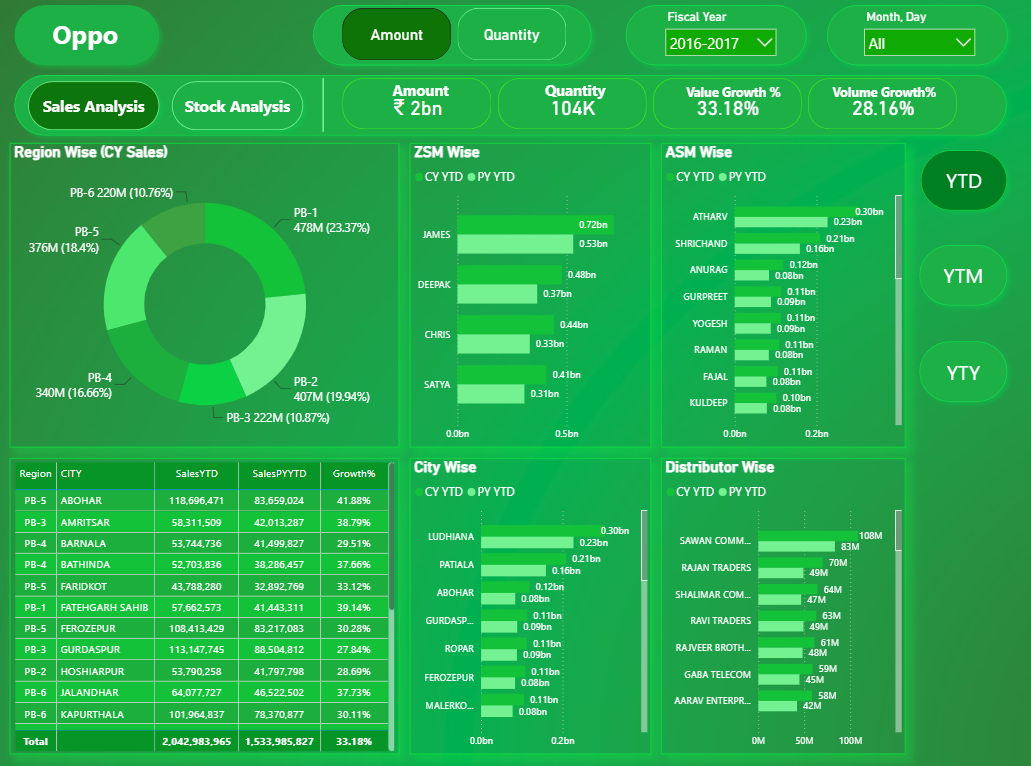

What the dashboard file says about the page in this screenshot:
{"tool":"powerbi","page":{"name":"Sale","canvas":[1280,980],"ordinal":0},"visuals":[{"type":"shape","title":"Amount/Qty_BG","box":[381.4,0,371.6,94.5],"z":0},{"type":"shape","box":[777.8,0,247.7,94.5],"z":0,"group":"g1"},{"type":"shape","box":[1032.5,0.2,247.7,94.5],"z":0,"group":"g2"},{"type":"shape","title":"Qppo","box":[1.6,0,202.1,94.5],"z":1000},{"type":"slicer","fields":{"Values":["DateTable.Fiscal Year"]},"box":[826.3,9.8,161.4,65.2],"z":1000,"group":"g1"},{"type":"slicer","fields":{"Values":["DateTable.Month-YY","DateTable.Day"]},"box":[1079,9.8,161.4,65.2],"z":1000,"group":"g2"},{"type":"shape","title":"YTY","box":[1150.2,427.6,129.8,94.8],"z":2000},{"type":"shape","title":"YTM","box":[1150.2,304.5,129.8,94.8],"z":3000},{"type":"shape","title":"YTD_S","box":[1151.9,184.7,128.1,94.8],"z":4000},{"type":"textbox","title":"Qoppo","box":[53.8,19.6,104.3,55.4],"z":5000},{"type":"shape","box":[1.7,88.2,1277.8,94.8],"z":6000},{"type":"shape","title":"Stock ANalysis","box":[201.3,96.5,184.7,79.9],"z":7000},{"type":"shape","title":"SalesAnalysis","box":[18.3,96.5,184.7,79.9],"z":8000},{"type":"group","id":"g1","title":"Group 1","box":[777.8,0,247.7,94.5],"z":9000},{"type":"group","id":"g2","title":"Group 2","box":[1032.5,0.2,247.7,94.5],"z":10000},{"type":"donutChart","title":"Region Wise (CY Sales)","fields":{"Y":["Measures-Sales.TotalSales"],"Category":["Distributor.Region"]},"box":[5,184.7,494.2,386],"z":11000},{"type":"tableEx","title":"City Wise Sales Amount","fields":{"Values":["Distributor.Region","Distributor.CITY","Measures-Sales.AmountYTD","Measures-Sales.AmountPYYTD","Measures-Sales.SalesGrowth%"]},"box":[5,584,494.2,376],"z":13000},{"type":"advancedSlicerVisual","title":"Slicer","fields":{"Values":["Qty/Amount.ID"]},"box":[422.1,8.2,295,76.6],"z":15000},{"type":"shape","box":[377.7,101.5,49.9,68.2],"z":16000},{"type":"clusteredBarChart","title":"City Wise","fields":{"Y":["Measures-Sales.AmountYTD","Measures-Sales.AmountPYYTD"],"Category":["Distributor.CITY"]},"box":[512.5,584,306.1,376],"z":20000},{"type":"clusteredBarChart","title":"ASM Wise","fields":{"Y":["Measures-Sales.AmountYTD","Measures-Sales.AmountPYYTD"],"Category":["Distributor.ASM"]},"box":[832.1,184.7,310,386],"z":22000},{"type":"clusteredBarChart","title":"ZSM Wise","fields":{"Y":["Measures-Sales.AmountYTD","Measures-Sales.AmountPYYTD"],"Category":["Distributor.ZSM"]},"box":[512.5,184.7,306.1,386],"z":26000},{"type":"clusteredBarChart","title":"Distributor Wise","fields":{"Y":["Measures-Sales.AmountYTD","Measures-Sales.AmountPYYTD"],"Category":["Distributor.DB NAME"]},"box":[832.1,584,310,376],"z":29000},{"type":"cardVisual","title":"KPI_YTD","fields":{"Data":["Measures-Sales.TotalSalesAmount","Measures-Sales.TotalSalesQty","Measures-Sales.SalesAmountGrowth%","Measures-Sales.SalesQtyGrowth%"]},"box":[422.9,97.1,791.4,75.7],"z":32000},{"type":"textbox","box":[1044.3,103.4,160.2,47.7],"z":33000},{"type":"textbox","box":[858.6,102.9,160,48.6],"z":34000},{"type":"textbox","box":[485.7,100,110,48.6],"z":35000},{"type":"textbox","box":[678.6,100,128.6,48.6],"z":36000}]}

Visuals, with their boxes on the page's 1280x980 design canvas (x1, y1, x2, y2). These are canvas units, not pixel positions in the 1031x766 screenshot, which may show the page scaled, cropped or inside an application window:
"Amount/Qty_BG" shape: Rect(381, 0, 753, 94)
shape: Rect(778, 0, 1026, 94)
shape: Rect(1032, 0, 1280, 95)
"Qppo" shape: Rect(2, 0, 204, 94)
slicer - DateTable.Fiscal Year: Rect(826, 10, 988, 75)
slicer - DateTable.Month-YY x DateTable.Day: Rect(1079, 10, 1240, 75)
"YTY" shape: Rect(1150, 428, 1280, 522)
"YTM" shape: Rect(1150, 304, 1280, 399)
"YTD_S" shape: Rect(1152, 185, 1280, 280)
"Qoppo" textbox: Rect(54, 20, 158, 75)
shape: Rect(2, 88, 1280, 183)
"Stock ANalysis" shape: Rect(201, 96, 386, 176)
"SalesAnalysis" shape: Rect(18, 96, 203, 176)
"Group 1" group: Rect(778, 0, 1026, 94)
"Group 2" group: Rect(1032, 0, 1280, 95)
"Region Wise (CY Sales)" donutChart: Rect(5, 185, 499, 571)
"City Wise Sales Amount" tableEx: Rect(5, 584, 499, 960)
"Slicer" advancedSlicerVisual: Rect(422, 8, 717, 85)
shape: Rect(378, 102, 428, 170)
"City Wise" clusteredBarChart: Rect(512, 584, 819, 960)
"ASM Wise" clusteredBarChart: Rect(832, 185, 1142, 571)
"ZSM Wise" clusteredBarChart: Rect(512, 185, 819, 571)
"Distributor Wise" clusteredBarChart: Rect(832, 584, 1142, 960)
"KPI_YTD" cardVisual: Rect(423, 97, 1214, 173)
textbox: Rect(1044, 103, 1204, 151)
textbox: Rect(859, 103, 1019, 152)
textbox: Rect(486, 100, 596, 149)
textbox: Rect(679, 100, 807, 149)
